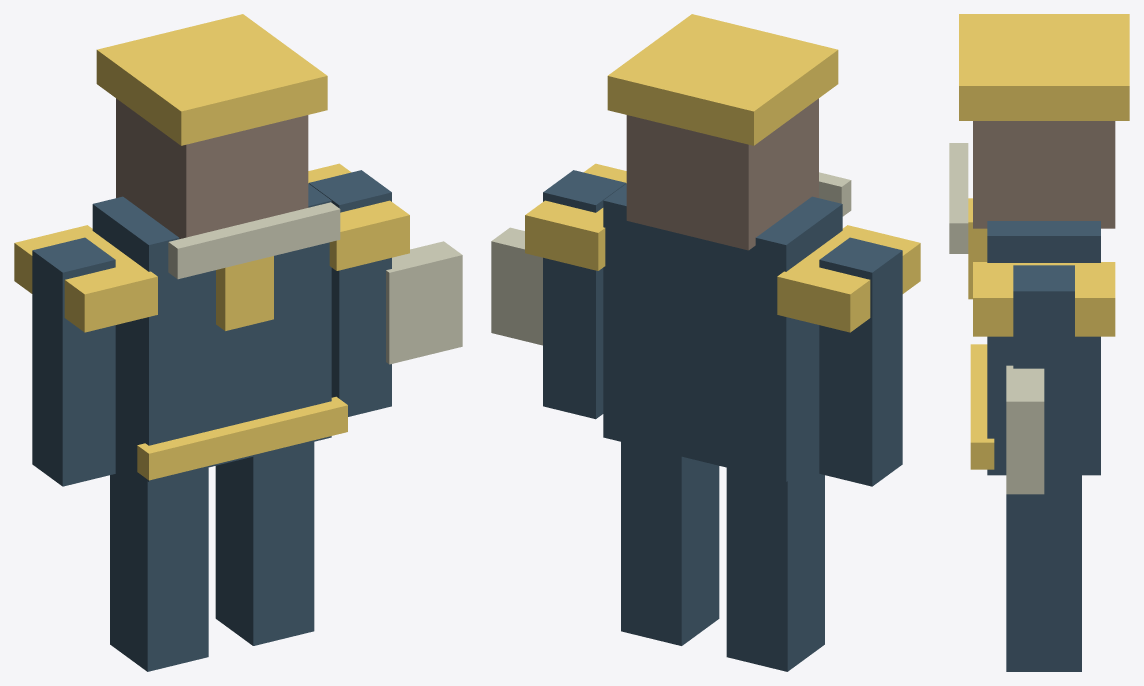
File: 19_ossa_cinderholt_archivist_under_null.glb
3 renders of one model, left to right at view 1: azimuth 30°, elevation 25°; view 2: azimuth 150°, elevation 25°; view 3: azimuth 270°, elevation 25°, orthographic.
Visible parts, largest first — view 1: Ossa Cinderholt, Archivist under Null; view 2: Ossa Cinderholt, Archivist under Null; view 3: Ossa Cinderholt, Archivist under Null.
Part boxes in pixels (<box>): Ossa Cinderholt, Archivist under Null: <box>14,14,462,671</box>; Ossa Cinderholt, Archivist under Null: <box>491,14,920,671</box>; Ossa Cinderholt, Archivist under Null: <box>949,14,1129,671</box>.
Bounding box in the file's own units: 1.02 × 1.41 × 0.3967.
